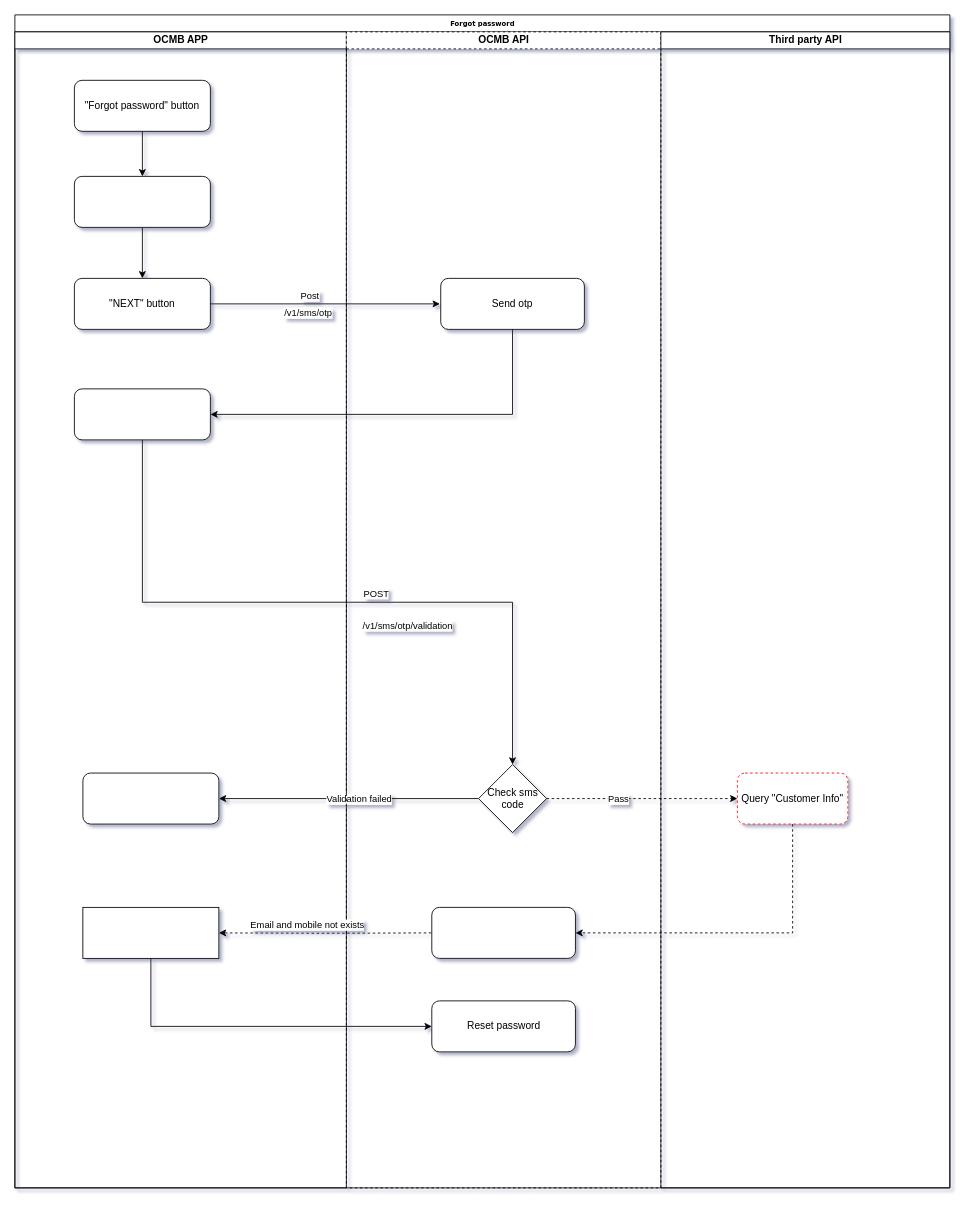
Some shapes in this 970 by 1208 pixel diagram are drawn without their labels. The shapes that lost their labels are listed below. From the top down, each one's centre as x and y in pixels, then its label:
the point at 142,201: "Registration info" screen
the point at 142,414: "sms verification" screen
the point at 150,798: error message
the point at 150,932: "Rreset password" screen
the point at 503,932: Call Result
